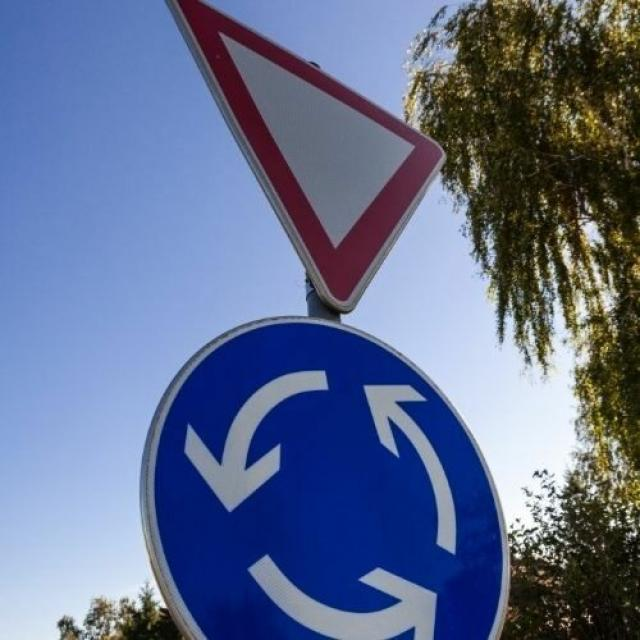roundabout: (142, 313, 509, 640)
